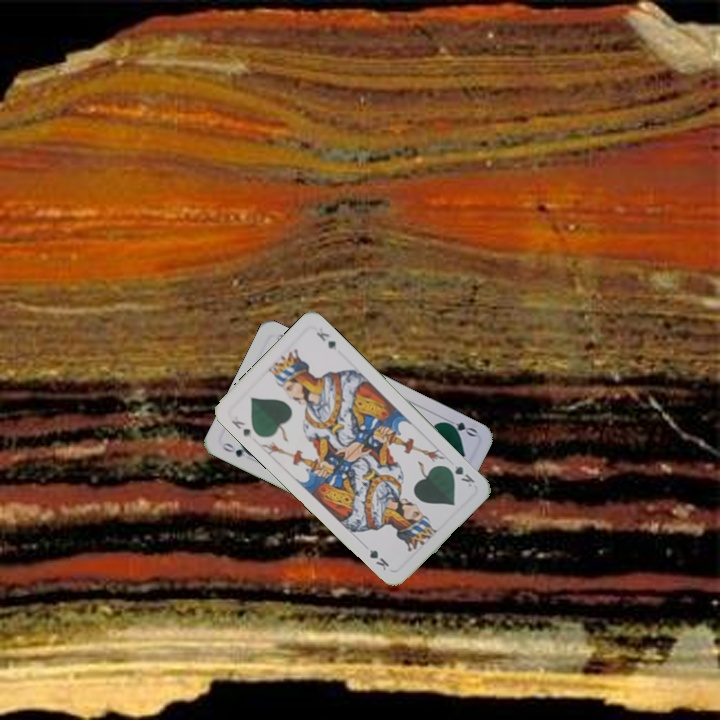GK: (442, 461, 478, 489), (227, 416, 253, 440)
GO: (439, 414, 480, 439), (218, 439, 257, 460)
